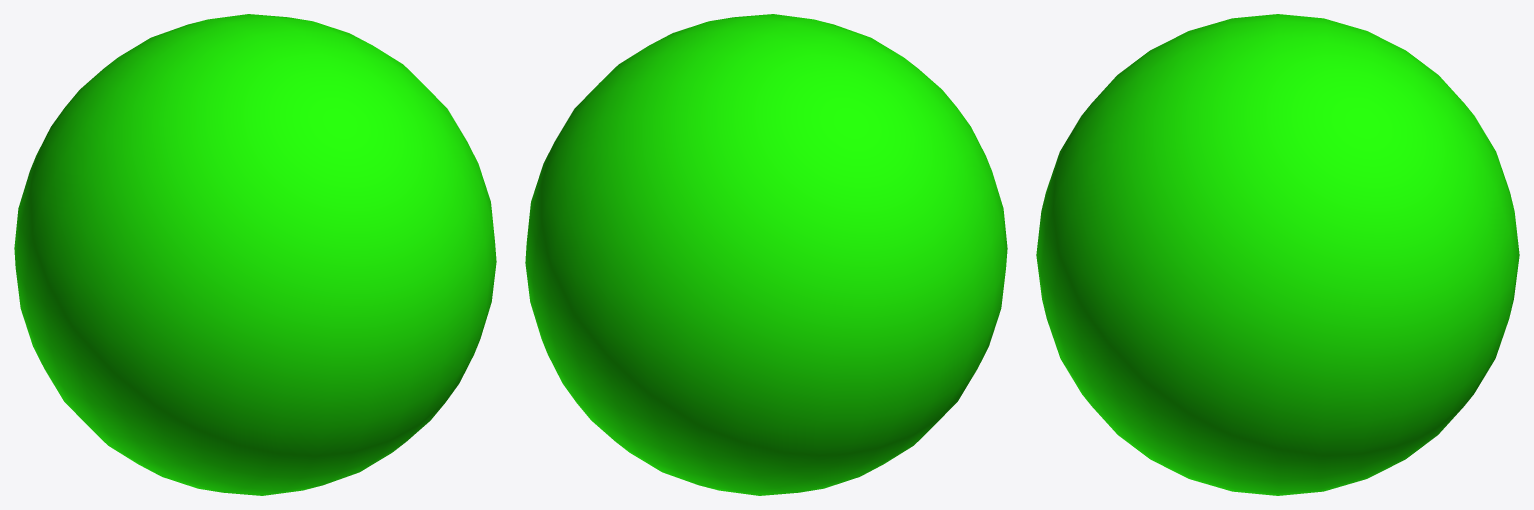
Rendered from Shield1.obj.
3 views of the same model, side by side, from view 1: azimuth 30°, elevation 25°; view 2: azimuth 150°, elevation 25°; view 3: azimuth 270°, elevation 25° (orthographic).
Parts seen in each view (by area): view 1: Shield; view 2: Shield; view 3: Shield.
Part boxes in pixels (x1,y1,x2,y2): Shield: [14, 14, 496, 495]; Shield: [525, 14, 1007, 495]; Shield: [1036, 14, 1519, 495].
Size of the model in its own units: 4.72 by 4.72 by 4.72.
